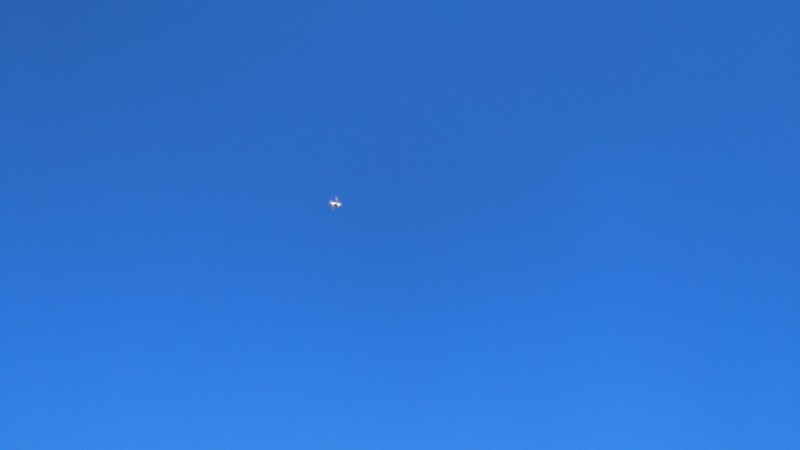drone: (326, 195, 345, 212)
